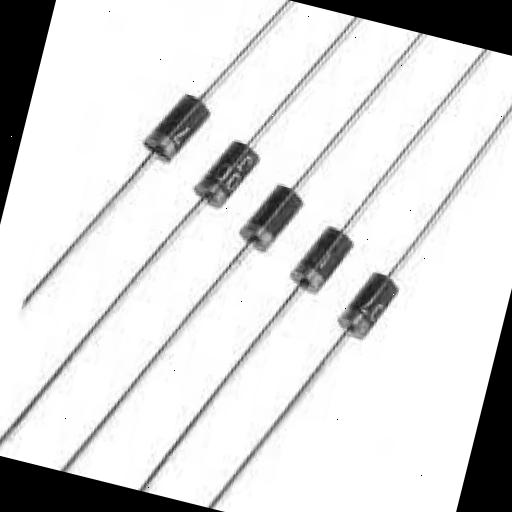DIODE: (0, 0, 512, 512), (120, 76, 231, 187), (234, 144, 328, 275), (184, 116, 276, 244), (279, 194, 366, 320), (329, 253, 417, 374)
